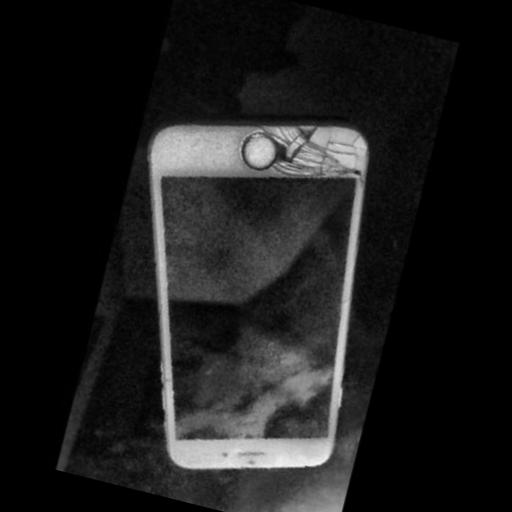phone: (145, 125, 376, 469)
